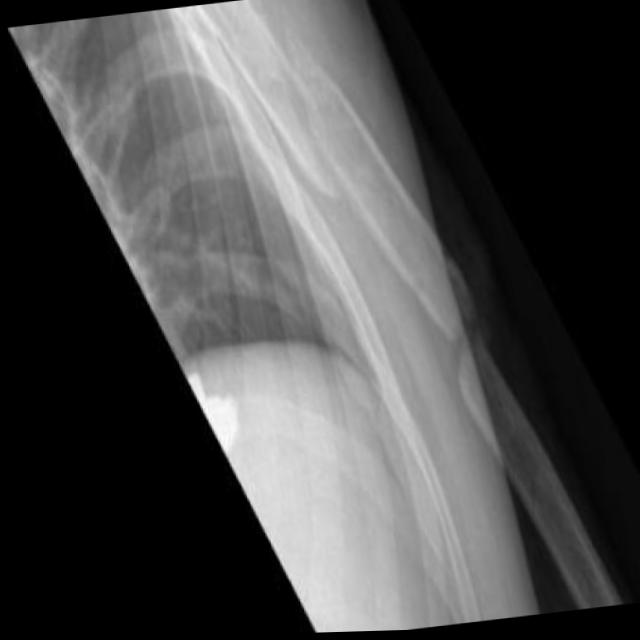fracture: (269, 35, 362, 223), (405, 281, 511, 406)
